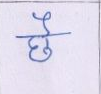ai_matra: (33, 11, 53, 34)
